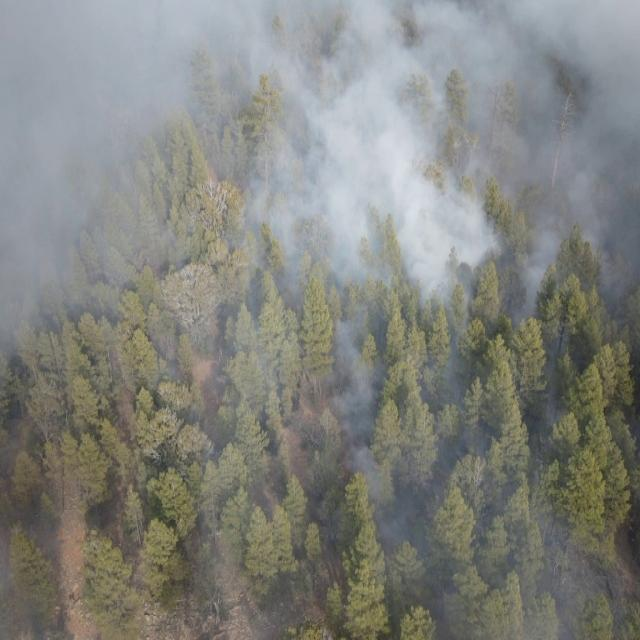smoke: (0, 0, 640, 316), (210, 318, 570, 640), (0, 316, 90, 640), (90, 318, 210, 422)
